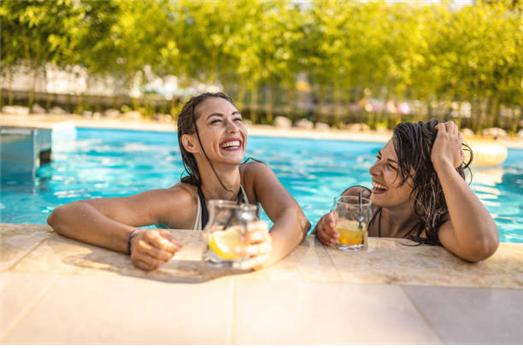alcohol: (202, 199, 259, 264), (330, 195, 375, 253)
